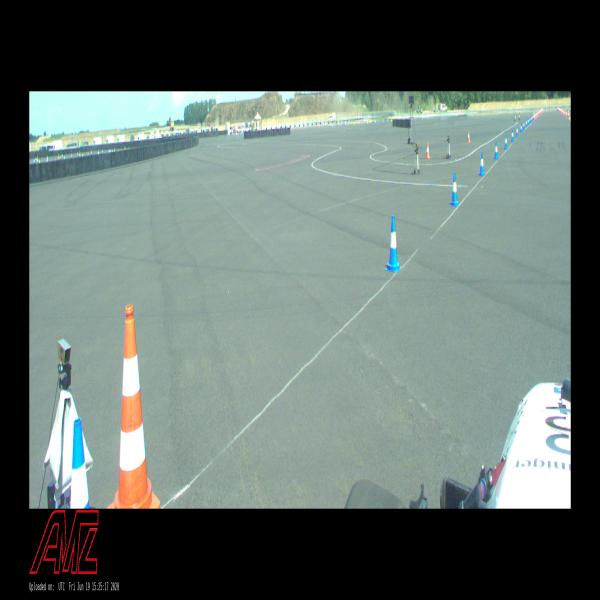blue_cone: (70, 418, 90, 508), (385, 215, 401, 273), (450, 173, 458, 205), (478, 152, 485, 176), (494, 141, 498, 159), (505, 134, 508, 150), (511, 130, 514, 142), (516, 126, 518, 137), (520, 124, 522, 133), (522, 120, 524, 128), (526, 120, 527, 128), (528, 118, 529, 125), (531, 116, 532, 122), (530, 117, 530, 123)
large_orange_cone: (108, 304, 160, 508)
orange_cone: (426, 142, 430, 158), (468, 130, 470, 143)
